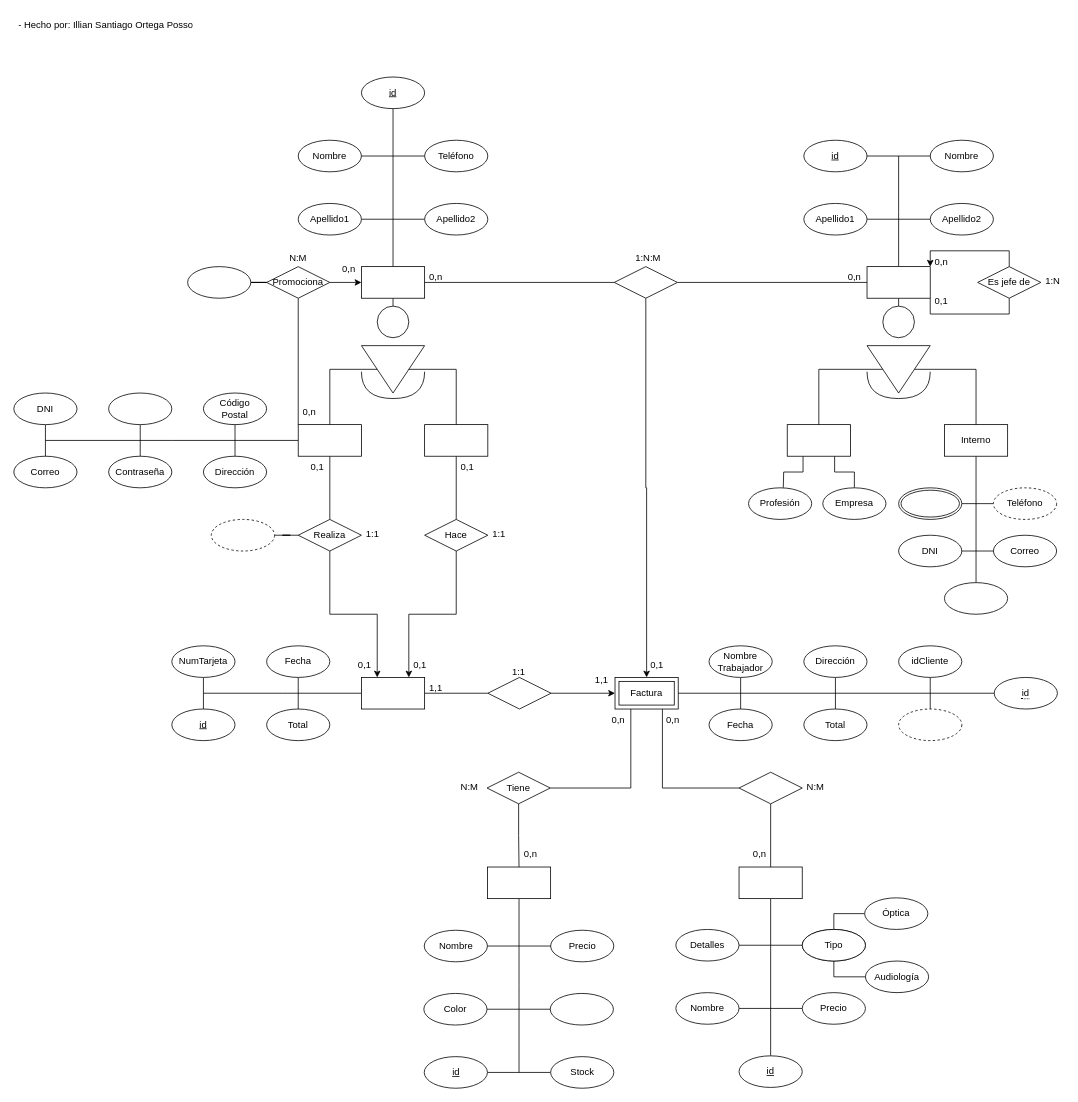
The diagram is 1078 pixels wide and 1102 high, and some of its shapes have lost their labels. Each missing label, with the centre of its shape:
Cliente: (x=393, y=282)
Contiene: (x=770, y=787)
Código: (x=219, y=282)
Dimensiones: (x=581, y=1009)
Externo: (x=818, y=440)
Genera: (x=519, y=693)
Habilidades: (x=930, y=503)
No registrado: (x=456, y=440)
Nombre Usuario: (x=140, y=408)
NomCliente: (x=930, y=724)
NumCuenta: (x=976, y=598)
Oferta: (x=243, y=535)
Pago: (x=393, y=693)
Producto: (x=519, y=882)
Registrado: (x=329, y=440)
Servicio: (x=770, y=882)
Trabajador: (x=898, y=282)
Tramita: (x=645, y=282)
